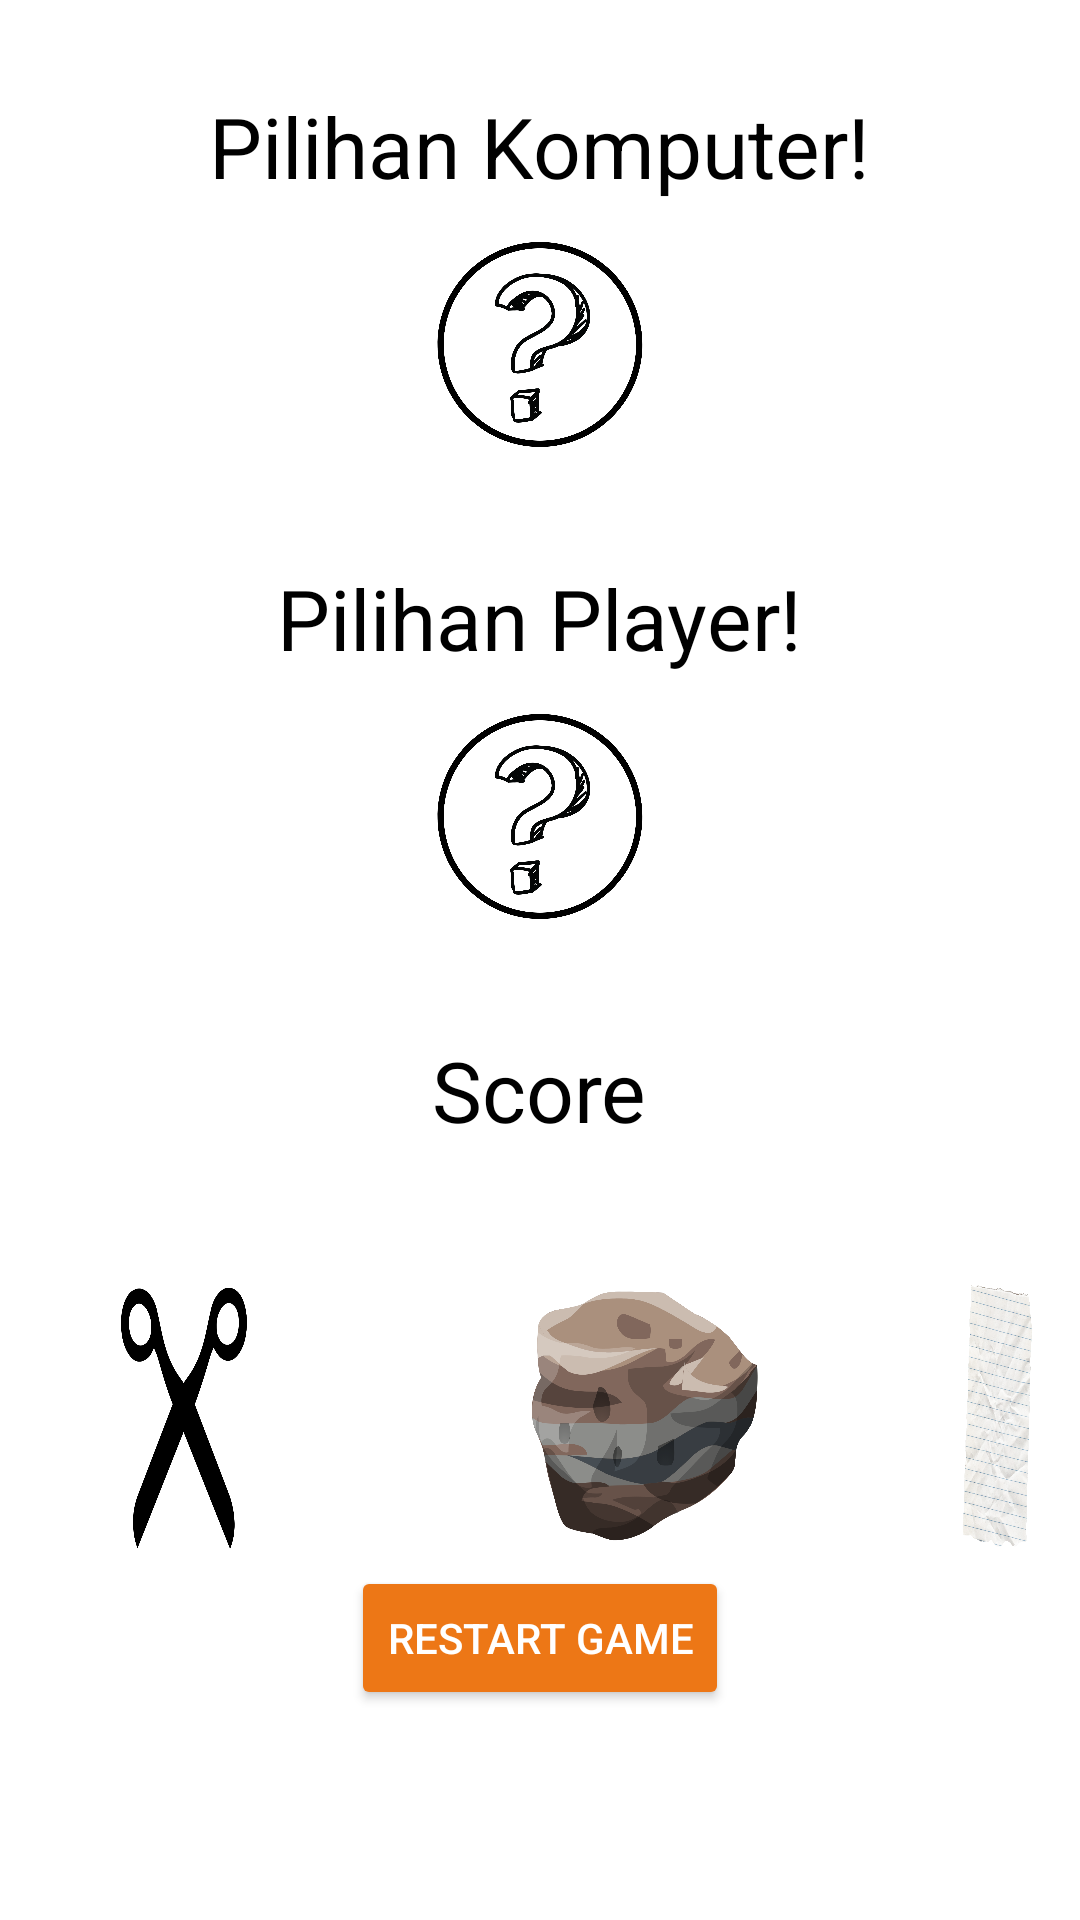

Point at icon controls on the screen. Image size 1080*1920, points as [x,y].
que: [540,344], [540,816]
